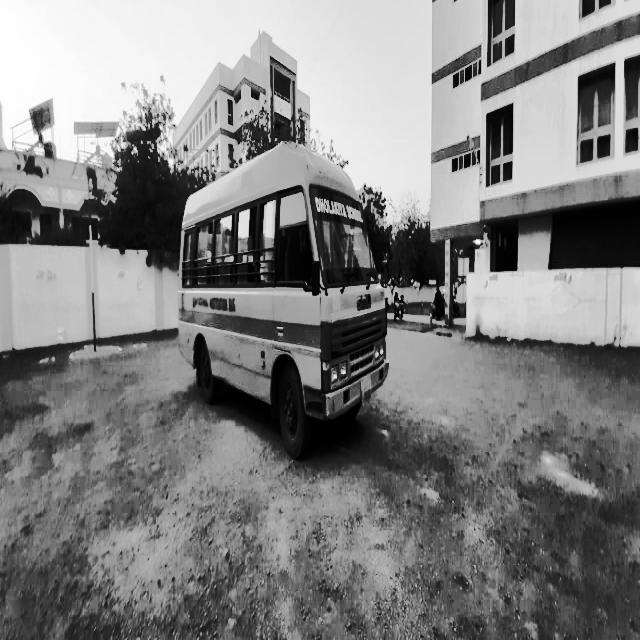Bus: (173, 134, 397, 475)
